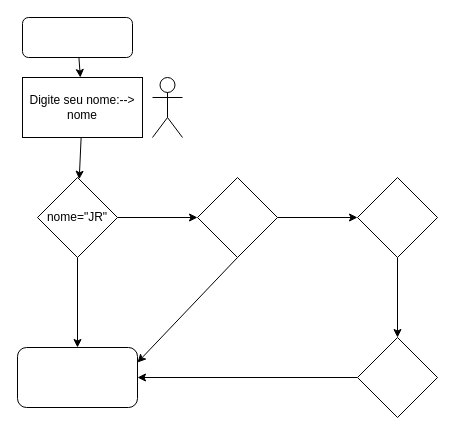
Image size: 455x435. Some labels were removed from this diagram. The box of each missing label's shape, as (x1, y1, x2, y2) in pixels:
Actor: (152, 76, 182, 138)
INICIO PROGRAMA: (22, 16, 132, 58)
